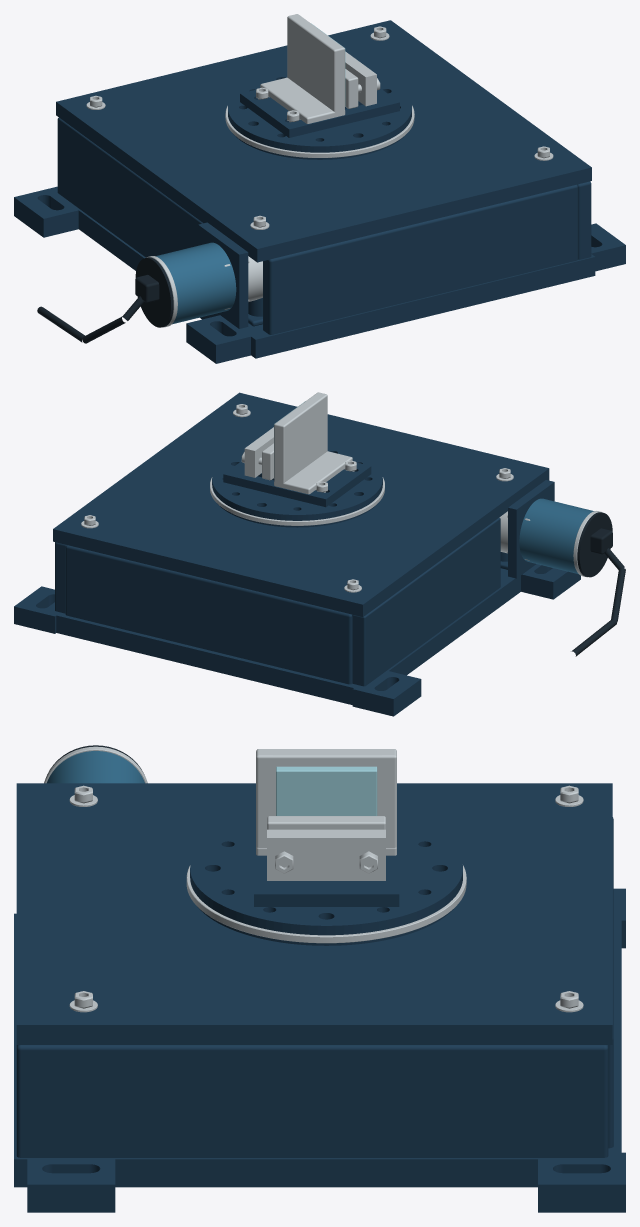
The model's file is precision-assembly.glb.
3 renders of one model, top to bottom at view 1: azimuth 30°, elevation 25°; view 2: azimuth 150°, elevation 25°; view 3: azimuth 270°, elevation 25°, orthographic. The views are drawn at different scales.
Parts seen in each view (by area): view 1: H06 · 方形上盖与轴承座口, H05 · 壳体侧壁 H05, H01 · 底座与安装耳, H02 · 带驱动轴开口的侧壁, A02 · 输出平台, F02 · 固定夹爪, M03 · 直流伺服电机外壳, F01 · 夹具定位底板, M04 · 电机安装法兰, M05 · 电机尾盖与线缆座, H03 · 壳体侧壁 H03, M06 · 驱动连接线 (+3 smaller); view 2: H06 · 方形上盖与轴承座口, H04 · 壳体侧壁 H04, H01 · 底座与安装耳, H02 · 带驱动轴开口的侧壁, A02 · 输出平台, F02 · 固定夹爪, M03 · 直流伺服电机外壳, F01 · 夹具定位底板, M05 · 电机尾盖与线缆座, M04 · 电机安装法兰, M06 · 驱动连接线, F05 · 调整螺钉反力座 (+1 smaller); view 3: H06 · 方形上盖与轴承座口, H03 · 壳体侧壁 H03, H01 · 底座与安装耳, A02 · 输出平台, F05 · 调整螺钉反力座, F02 · 固定夹爪, F04 · 光学元件示意板, F01 · 夹具定位底板, M03 · 直流伺服电机外壳, F03 · 活动压爪, H04 · 壳体侧壁 H04.
Part boxes in pixels (x1,y1,x2,y2): H06 · 方形上盖与轴承座口: [56, 20, 591, 262]; H05 · 壳体侧壁 H05: [263, 184, 577, 334]; H01 · 底座与安装耳: [14, 186, 625, 363]; H02 · 带驱动轴开口的侧壁: [57, 117, 202, 257]; A02 · 输出平台: [225, 71, 414, 159]; F02 · 固定夹爪: [260, 14, 345, 123]; M03 · 直流伺服电机外壳: [146, 242, 236, 327]; F01 · 夹具定位底板: [240, 88, 399, 137]; M04 · 电机安装法兰: [198, 222, 248, 328]; M05 · 电机尾盖与线缆座: [135, 257, 173, 327]; H03 · 壳体侧壁 H03: [577, 181, 591, 259]; M06 · 驱动连接线: [37, 296, 144, 343]; H06 · 方形上盖与轴承座口: [53, 392, 549, 616]; H04 · 壳体侧壁 H04: [65, 545, 352, 684]; H01 · 底座与安装耳: [14, 564, 580, 716]; H02 · 带驱动轴开口的侧壁: [352, 517, 500, 686]; A02 · 输出平台: [210, 445, 384, 527]; F02 · 固定夹爪: [274, 392, 352, 494]; M03 · 直流伺服电机外壳: [519, 498, 603, 577]; F01 · 夹具定位底板: [223, 461, 371, 507]; M05 · 电机尾盖与线缆座: [577, 512, 612, 577]; M04 · 电机安装法兰: [508, 480, 554, 578]; M06 · 驱动连接线: [571, 548, 625, 656]; F05 · 调整螺钉反力座: [244, 427, 273, 477]; H06 · 方形上盖与轴承座口: [16, 783, 612, 1044]; H03 · 壳体侧壁 H03: [16, 1045, 608, 1157]; H01 · 底座与安装耳: [14, 888, 625, 1212]; A02 · 输出平台: [186, 819, 466, 945]; F05 · 调整螺钉反力座: [267, 829, 385, 880]; F02 · 固定夹爪: [256, 749, 396, 855]; F04 · 光学元件示意板: [276, 766, 377, 815]; F01 · 夹具定位底板: [254, 814, 399, 906]; M03 · 直流伺服电机外壳: [44, 746, 147, 783]; F03 · 活动压爪: [267, 816, 385, 829]; H04 · 壳体侧壁 H04: [608, 817, 613, 1148].
Size of the model in its own units: 0.0964 by 0.0388 by 0.0695.
